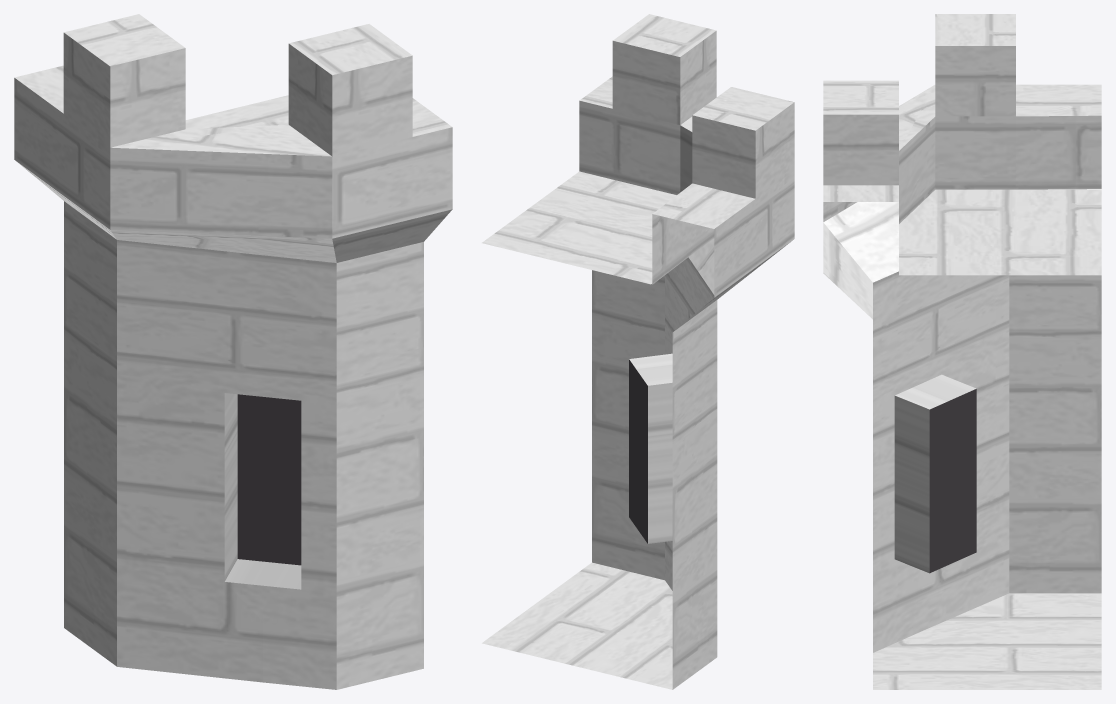
Rendered from castle_type_d.gltf.
3 renders of one model, left to right at view 1: azimuth 30°, elevation 25°; view 2: azimuth 150°, elevation 25°; view 3: azimuth 270°, elevation 25°, orthographic. The views are drawn at different scales.
Parts seen in each view (by area): view 1: Type_D; view 2: Type_D; view 3: Type_D.
Part boxes in pixels (x1=…): Type_D: x1=14, y1=14, x2=452, y2=689; Type_D: x1=482, y1=14, x2=794, y2=689; Type_D: x1=823, y1=14, x2=1101, y2=689.
Size of the model in its own units: 0.6085 by 1.35 by 0.6085.
2 materials, 1 textured.
